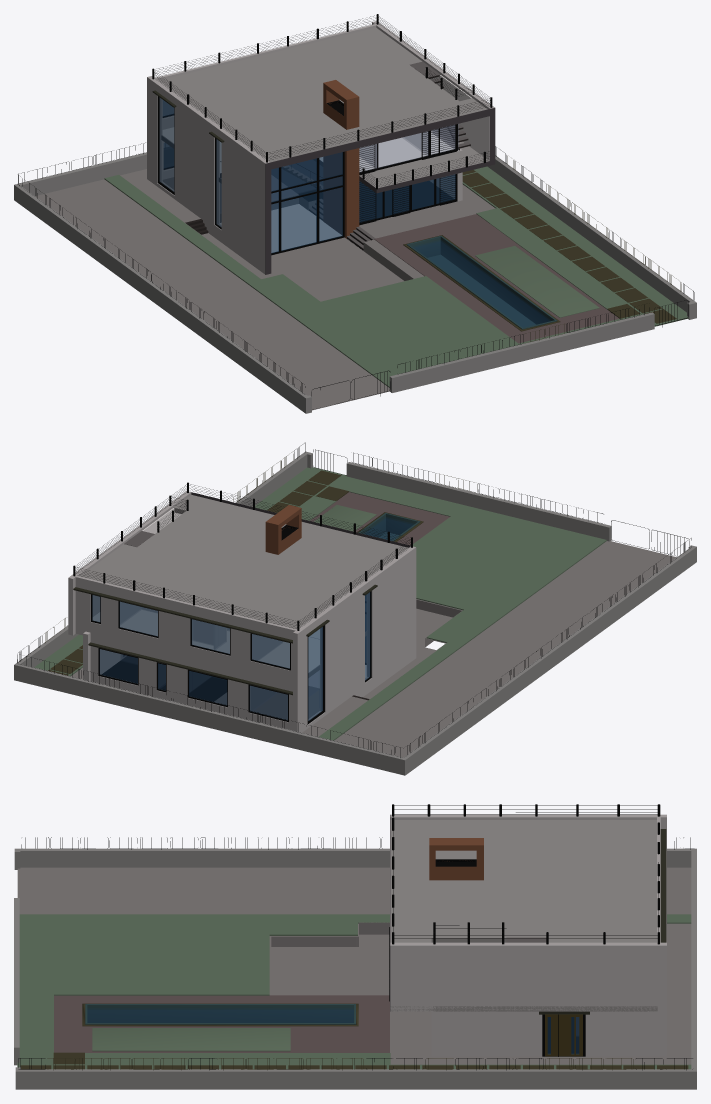
Rendered from villa.glb.
The picture shows the model from 3 angles, top to bottom: view 1: azimuth 30°, elevation 25°; view 2: azimuth 150°, elevation 25°; view 3: azimuth 270°, elevation 25°; orthographic projection. The views are drawn at different scales.
Visible parts, largest first — view 1: _7Rectangle003_02wall_0, Box119_10interior_wall_0; view 2: _7Rectangle003_02wall_0, Box119_10interior_wall_0; view 3: _7Rectangle003_02wall_0, Box119_10interior_wall_0.
Boxes of the visible parts, x1=… form: _7Rectangle003_02wall_0: x1=14, y1=14, x2=696, y2=413; Box119_10interior_wall_0: x1=159, y1=98, x2=549, y2=327; _7Rectangle003_02wall_0: x1=14, y1=442, x2=696, y2=775; Box119_10interior_wall_0: x1=92, y1=517, x2=412, y2=720; _7Rectangle003_02wall_0: x1=14, y1=804, x2=696, y2=1089; Box119_10interior_wall_0: x1=87, y1=1009, x2=579, y2=1054.
Size of the model in its own units: 15.46 by 5.59 by 20.
2 materials, 2 textured.
